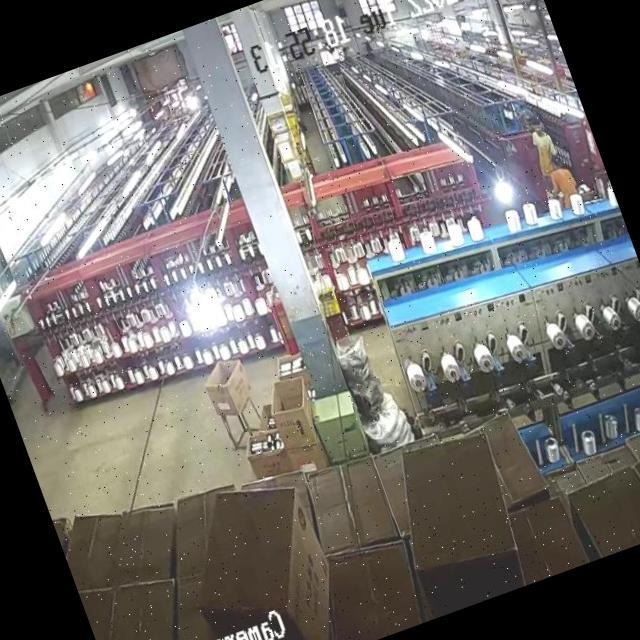person: (516, 110, 568, 187), (544, 156, 582, 206)
